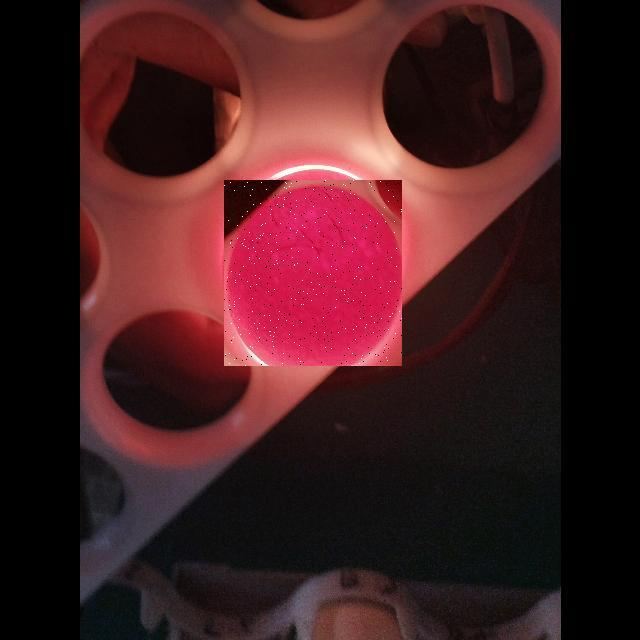Infertile: (224, 180, 402, 366)
